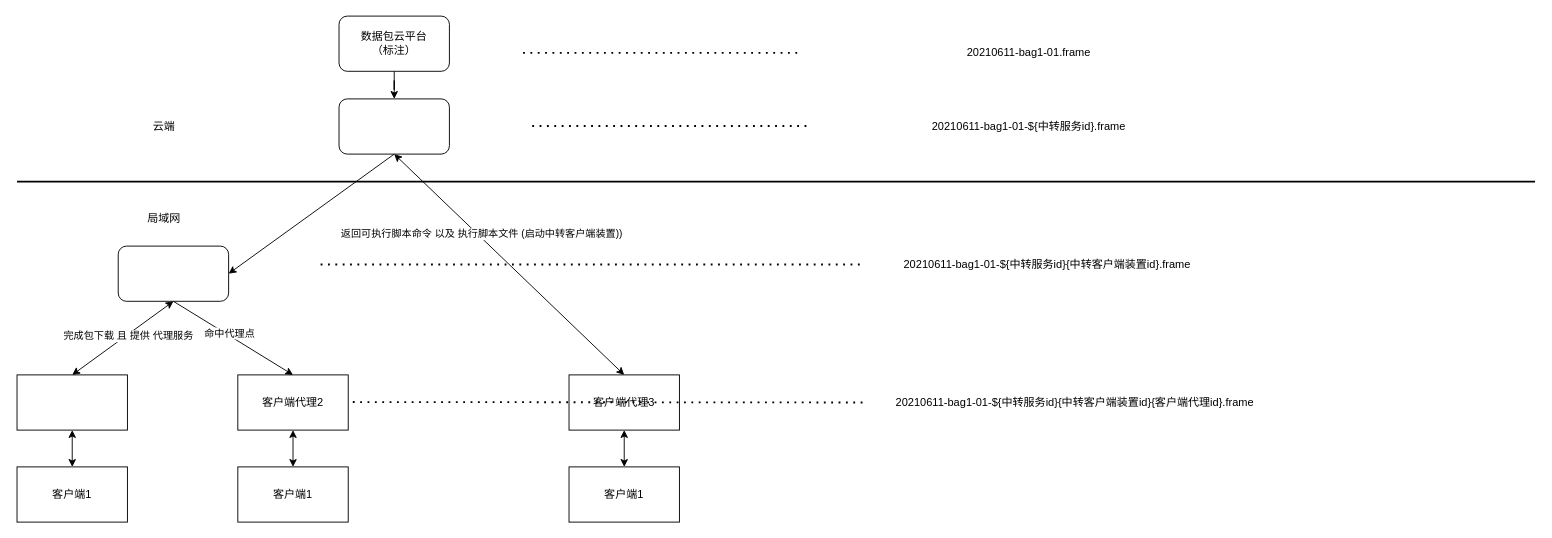
The diagram is 1552 pixels wide and 538 high, and some of its shapes have lost their labels. The box of each missing label's shape, as (x1, y1, x2, y2) in pixels:
中转客户端换装置: (117, 245, 229, 301)
中转管理服务层: (338, 98, 449, 154)
客户端代理1: (16, 374, 127, 430)
